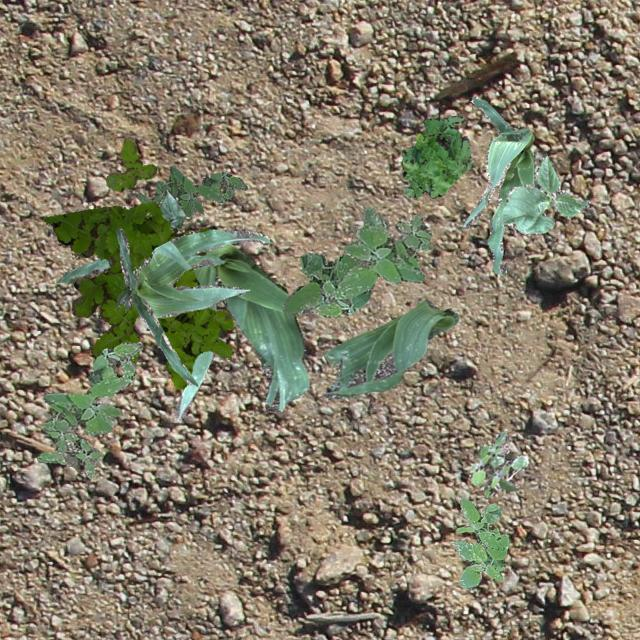crop: (58, 242, 310, 420), (115, 226, 269, 384), (322, 298, 458, 398), (462, 96, 536, 276), (498, 154, 588, 233), (160, 190, 184, 228)
weed: (41, 200, 232, 388), (36, 340, 142, 478), (312, 206, 430, 316), (400, 114, 470, 198), (136, 164, 246, 216), (450, 496, 508, 590), (282, 252, 359, 314), (468, 430, 528, 496), (104, 136, 156, 190)
